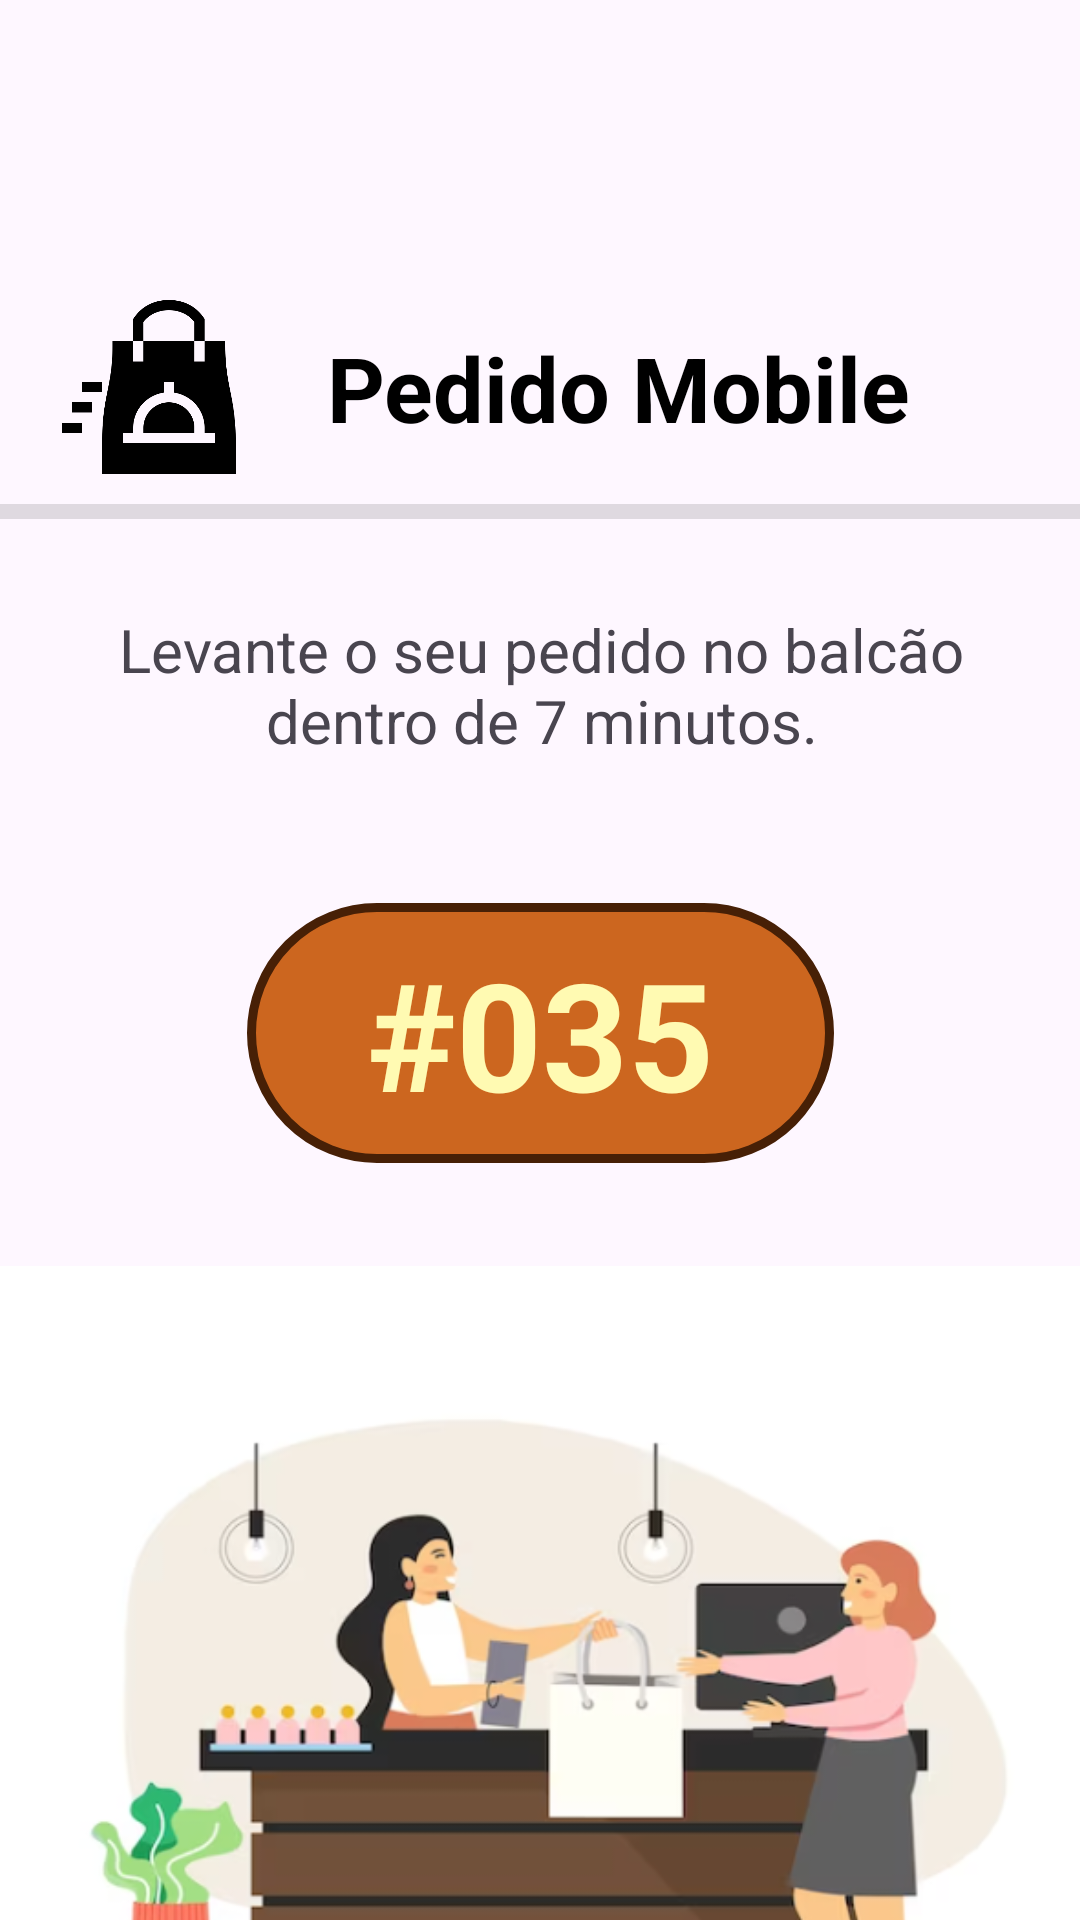

Icons on this 1080px×1920px Android screen, each with the point to tap as (x,y):
fast delivery: (149,387)
